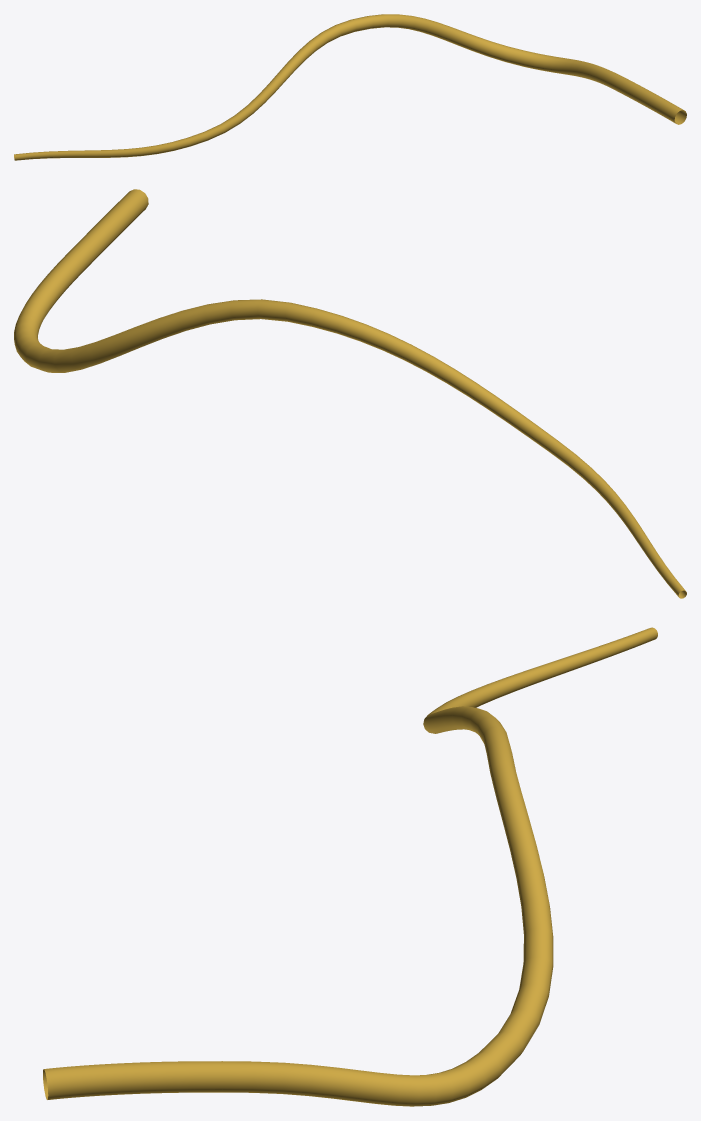
The picture shows the model from 3 angles, top to bottom: view 1: azimuth 30°, elevation 25°; view 2: azimuth 150°, elevation 25°; view 3: azimuth 270°, elevation 25°; orthographic projection. The views are drawn at different scales.
Parts seen in each view (by area): view 1: 右侧尺神经深支; view 2: 右侧尺神经深支; view 3: 右侧尺神经深支.
Boxes of the visible parts, bbox=[...] form: 右侧尺神经深支: bbox=[14, 14, 686, 160]; 右侧尺神经深支: bbox=[14, 189, 686, 598]; 右侧尺神经深支: bbox=[43, 627, 657, 1106].
Size of the model in its own units: 0.0553 by 0.00962 by 0.0282.
